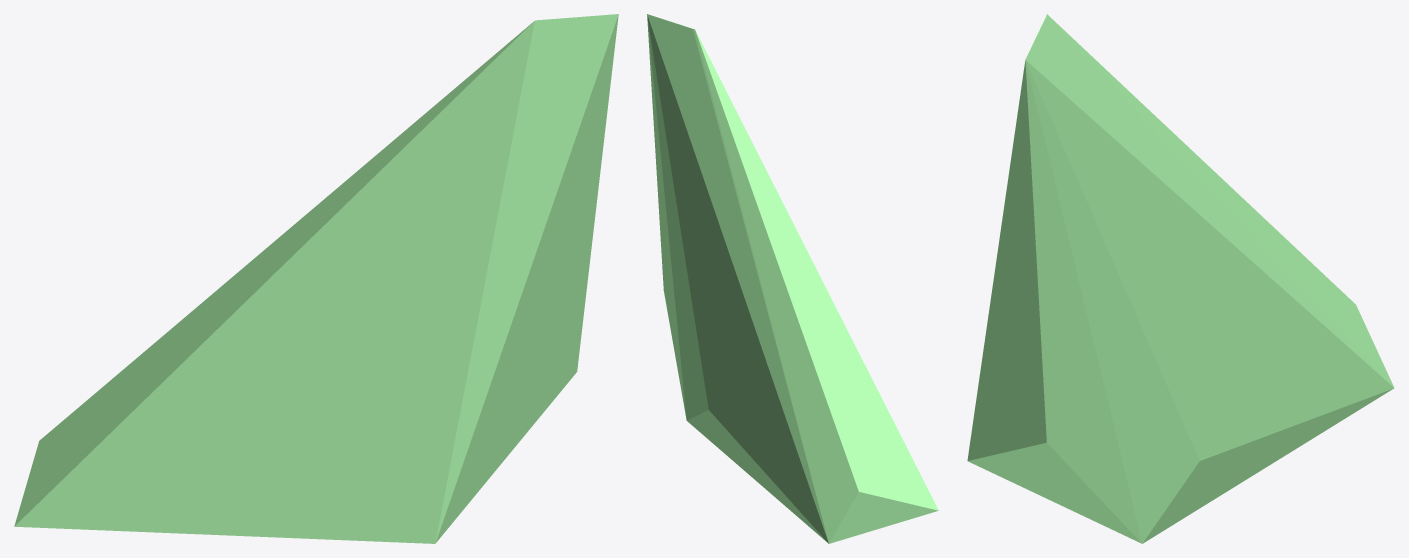
File: linkhou_robot_base_coll_22.dae
3 renders of one model, left to right at view 1: azimuth 30°, elevation 25°; view 2: azimuth 150°, elevation 25°; view 3: azimuth 270°, elevation 25°, orthographic. The views are drawn at different scales.
Visible parts, largest first — view 1: Node_00000209DB3AB0A0; view 2: Node_00000209DB3AB0A0; view 3: Node_00000209DB3AB0A0.
Boxes of the visible parts, x1,y1,x2,y2 form: Node_00000209DB3AB0A0: (14, 14, 618, 543); Node_00000209DB3AB0A0: (647, 14, 938, 543); Node_00000209DB3AB0A0: (967, 14, 1394, 543).
Bounding box in the file's own units: 0.0456 × 0.0434 × 0.0302.
